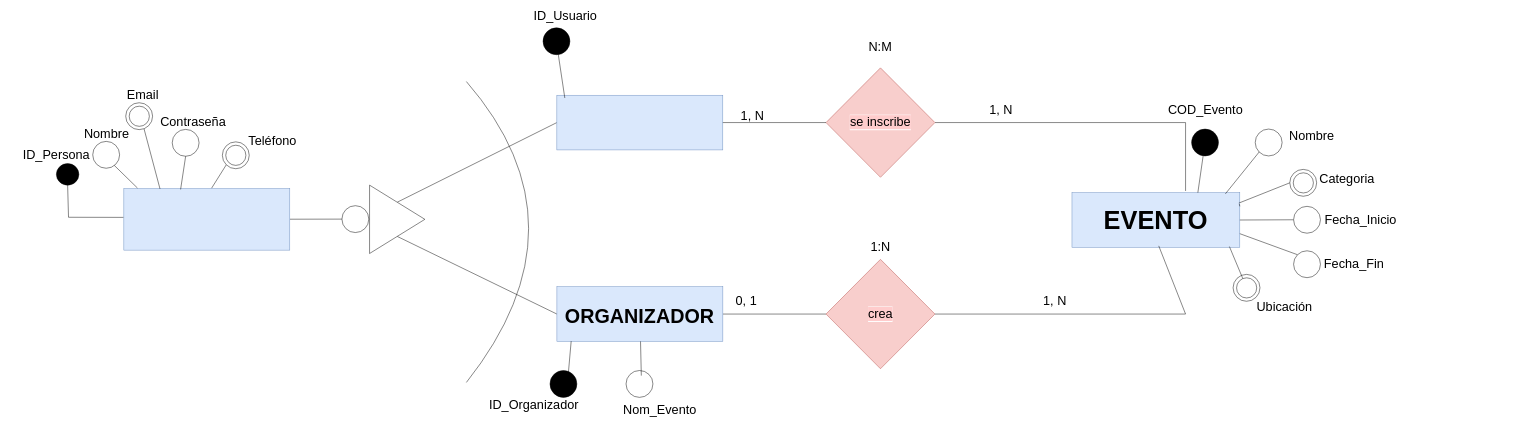
The diagram is 1539 pixels wide and 425 high, and some of its shapes have lost their labels. Here are the shapes that lost their labels. From the top down, the centre of each, then its label:
[639,122]: USUARIO
[206,219]: PERSONA
